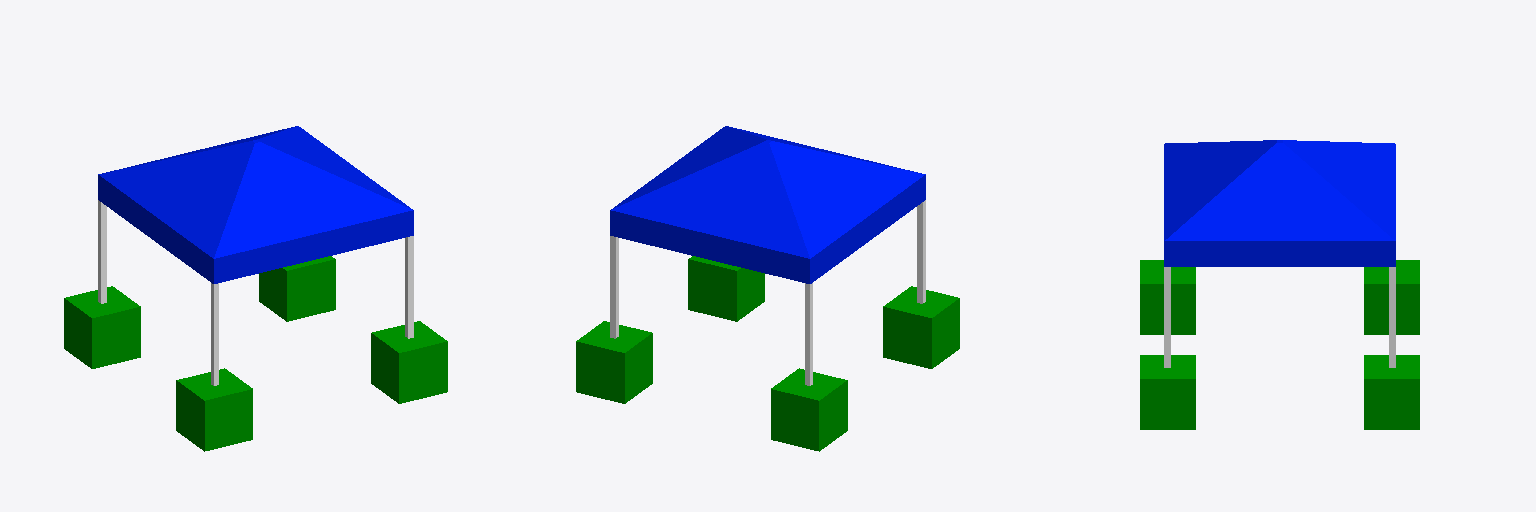
File: TeamTentBlue.obj
3 views of the same model, side by side, from view 1: azimuth 30°, elevation 25°; view 2: azimuth 150°, elevation 25°; view 3: azimuth 270°, elevation 25° (orthographic).
Visible parts, largest first — view 1: Cube; view 2: Cube; view 3: Cube.
Part boxes in pixels (left/top/right/bottom): Cube: left=64, top=126, right=447, bottom=451; Cube: left=576, top=126, right=959, bottom=451; Cube: left=1140, top=140, right=1419, bottom=429.
Size of the model in its own units: 10 by 9 by 10.